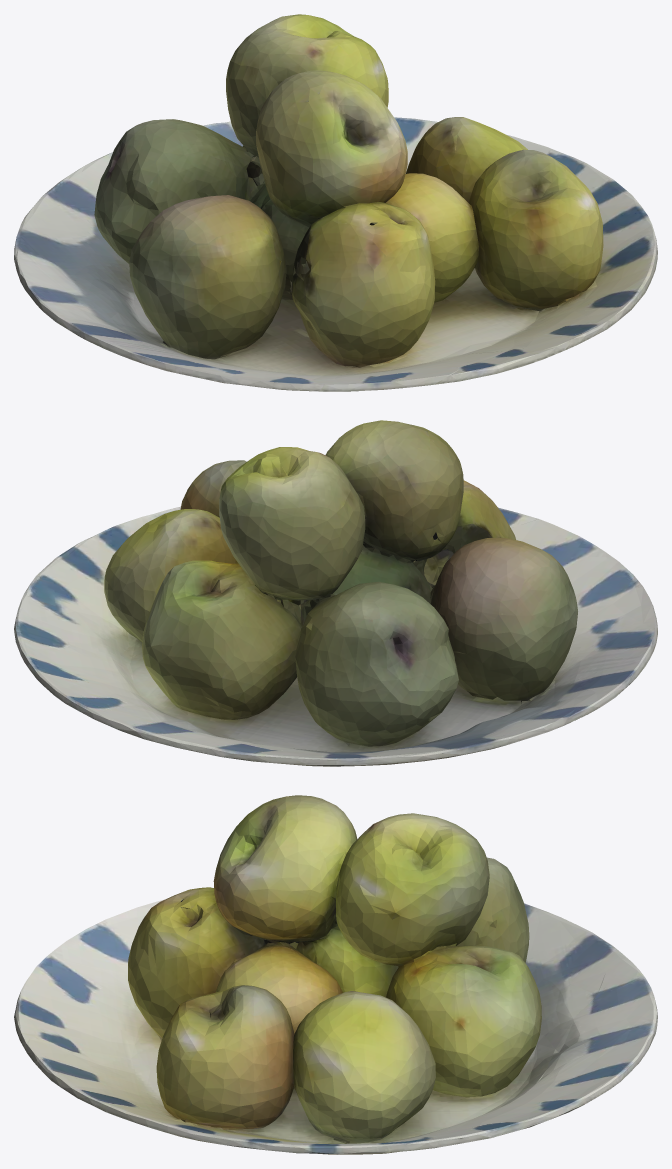
Rendered from 555f2de6-88ea-4e3e-9ecd-97081a5ad96f.glb.
The picture shows the model from 3 angles, top to bottom: view 1: azimuth 30°, elevation 25°; view 2: azimuth 150°, elevation 25°; view 3: azimuth 270°, elevation 25°; orthographic projection.
Visible parts, largest first — view 1: world; view 2: world; view 3: world.
Boxes of the visible parts, <box> form: world: <box>14,14,657,391</box>; world: <box>14,420,657,766</box>; world: <box>14,795,657,1154</box>.
Bounding box in the file's own units: 0.7136 × 0.3068 × 0.7136.
Materials: 1 (1 with a texture image).
